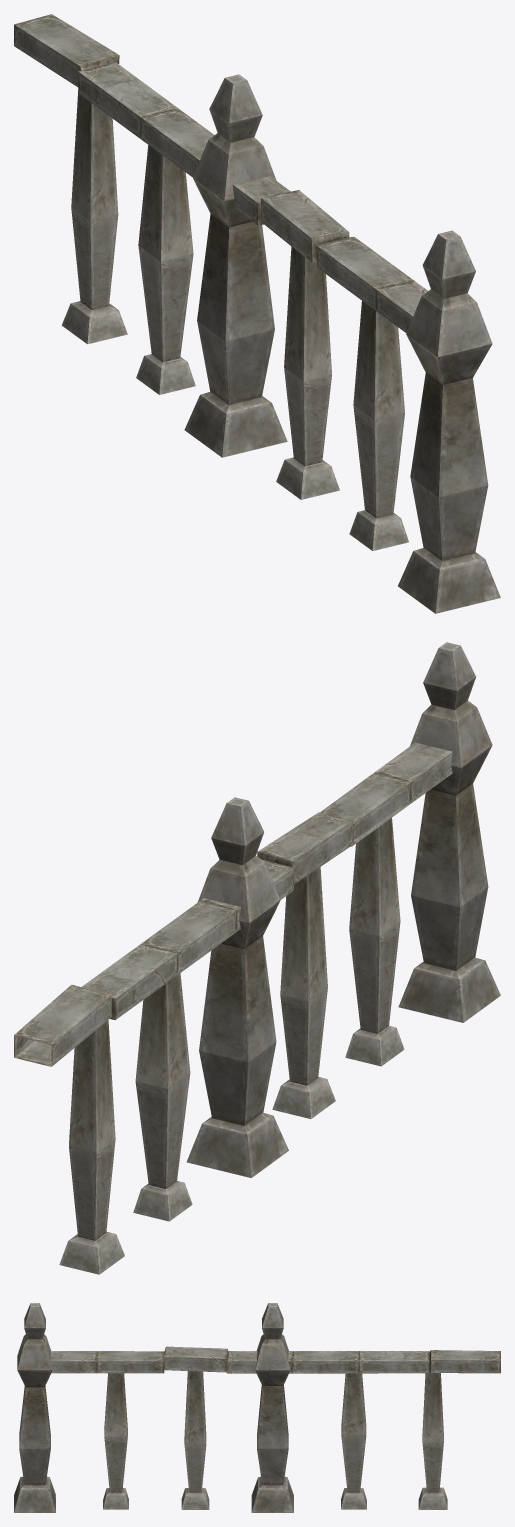
The model's file is bg_lut_lucastle_arenafence01_sm_bjh.FBX.
3 views of the same model, one above another, from view 1: azimuth 30°, elevation 25°; view 2: azimuth 150°, elevation 25°; view 3: azimuth 270°, elevation 25° (orthographic). The views are drawn at different scales.
Visible parts, largest first — view 1: bg_lut_lucastle_arenafence01_sm_bjh; view 2: bg_lut_lucastle_arenafence01_sm_bjh; view 3: bg_lut_lucastle_arenafence01_sm_bjh.
Boxes of the visible parts, box(x1,y1,x2,y2) form: bg_lut_lucastle_arenafence01_sm_bjh: box(14, 14, 500, 613); bg_lut_lucastle_arenafence01_sm_bjh: box(14, 642, 500, 1274); bg_lut_lucastle_arenafence01_sm_bjh: box(14, 1303, 500, 1512).
Bounding box in the file's own units: 25.95 × 135 × 300.
